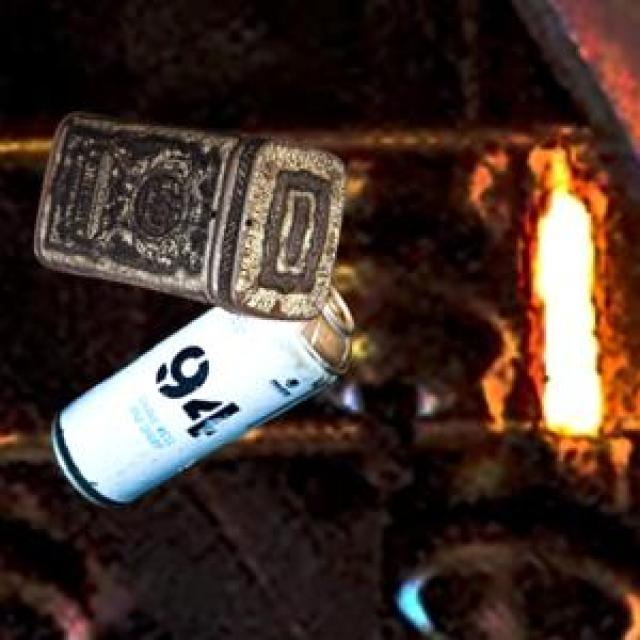logam: (48, 283, 351, 505), (31, 110, 342, 317)
